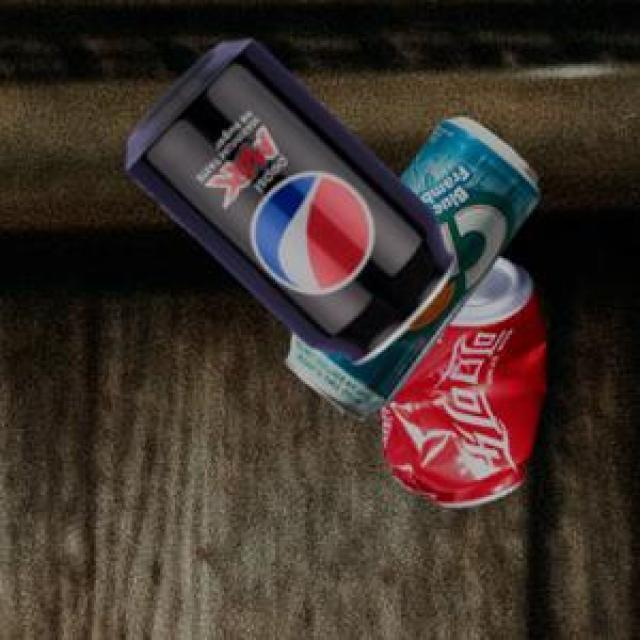Can: (123, 37, 451, 362), (283, 114, 537, 417), (379, 253, 543, 505)
